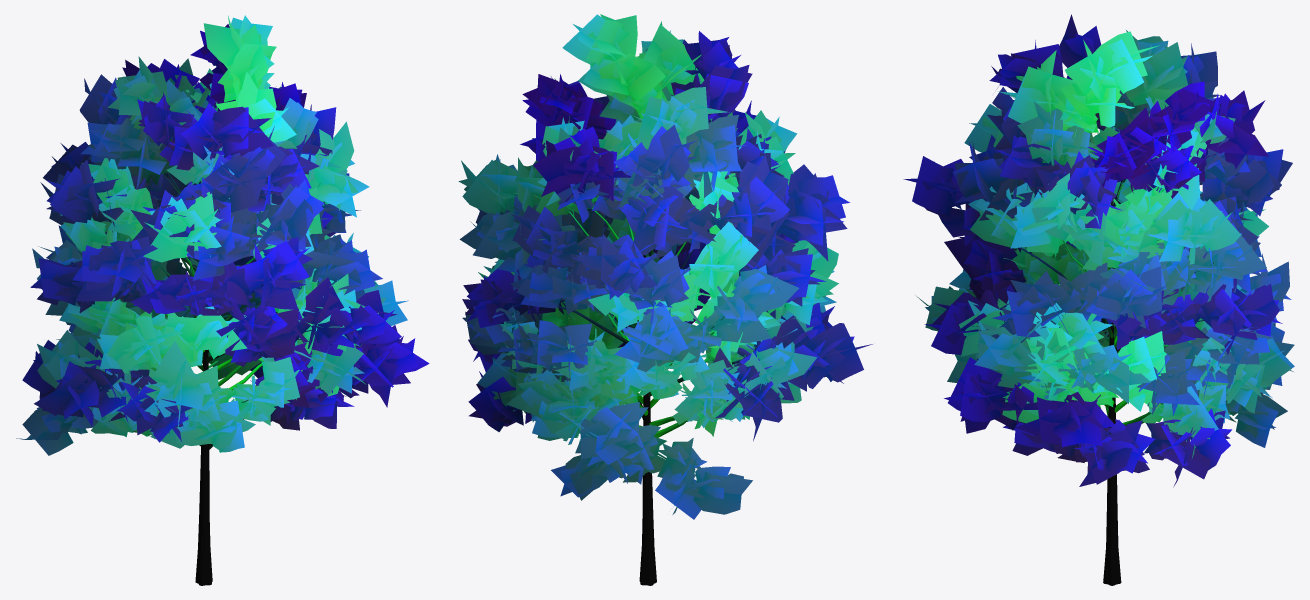
File: cP_Tree04.fbx
3 renders of one model, left to right at view 1: azimuth 30°, elevation 25°; view 2: azimuth 150°, elevation 25°; view 3: azimuth 270°, elevation 25°, orthographic. The views are drawn at different scales.
Parts seen in each view (by area): view 1: cP_Tree04_LOD0; view 2: cP_Tree04_LOD0; view 3: cP_Tree04_LOD0.
Part boxes in pixels (bbox=[...]): cP_Tree04_LOD0: bbox=[16, 15, 429, 585]; cP_Tree04_LOD0: bbox=[458, 14, 872, 585]; cP_Tree04_LOD0: bbox=[903, 14, 1294, 585].
Size of what is drawn, in the model's own units: 617 by 901 by 566.
